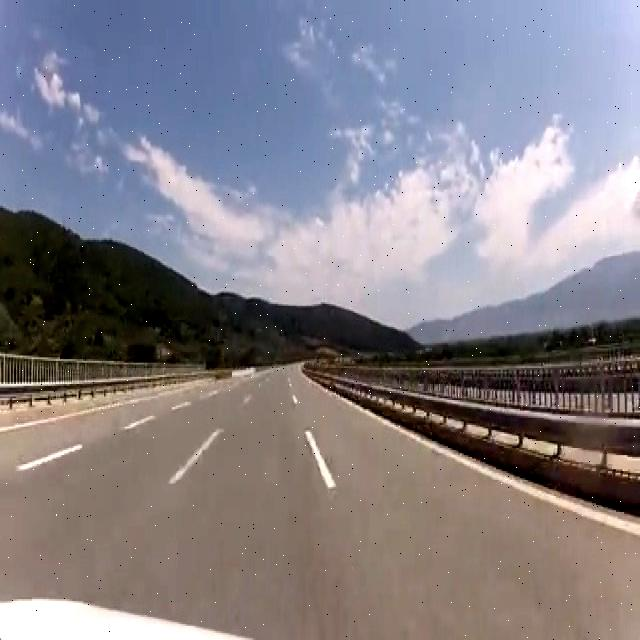lane: (170, 429, 222, 483), (306, 432, 336, 487)
road: (1, 366, 636, 637)
